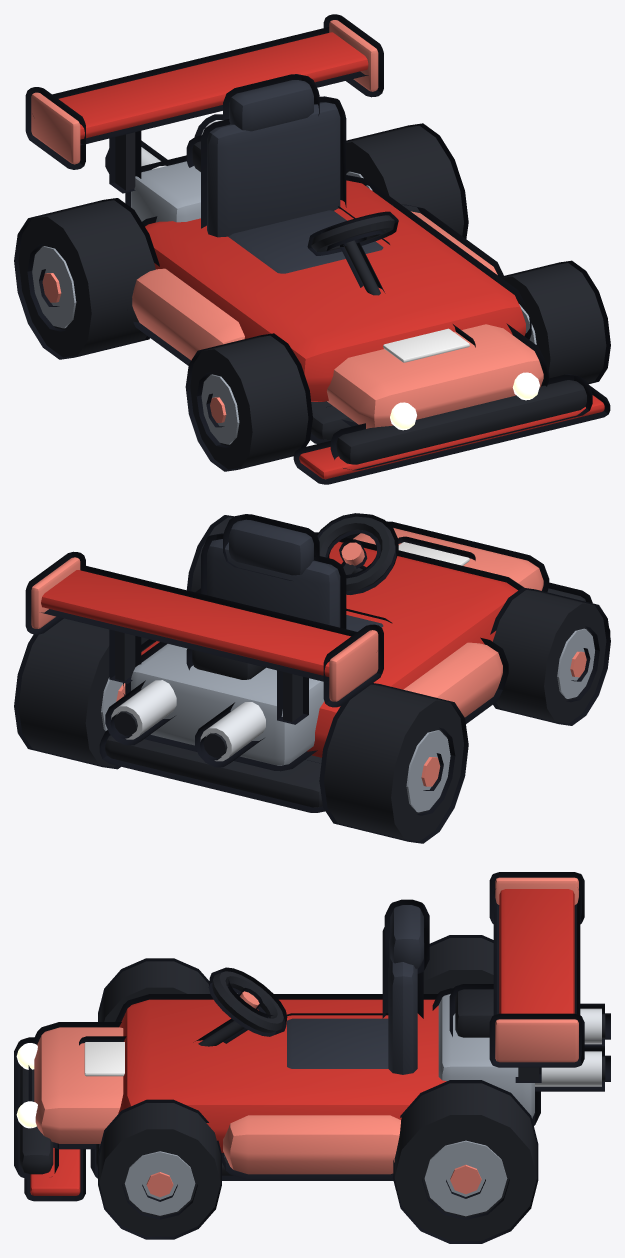
The model's file is kart.glb.
The picture shows the model from 3 angles, top to bottom: view 1: azimuth 30°, elevation 25°; view 2: azimuth 150°, elevation 25°; view 3: azimuth 270°, elevation 25°; orthographic projection. The views are drawn at different scales.
Parts seen in each view (by area): view 1: kart_body, wheel_rl, wheel_fl, wheel_fr, wheel_rr, steer; view 2: kart_body, wheel_rl, wheel_fl, wheel_rr, steer, wheel_fr; view 3: kart_body, wheel_rr, wheel_fr, steer, wheel_fl, wheel_rl.
Boxes of the visible parts, x1,y1,x2,y2 form: kart_body: (25, 14, 610, 484); wheel_rl: (14, 198, 159, 359); wheel_fl: (185, 333, 312, 471); wheel_fr: (494, 260, 610, 383); wheel_rr: (346, 123, 468, 238); steer: (307, 211, 398, 295); kart_body: (25, 514, 610, 812); wheel_rl: (319, 683, 468, 843); wheel_fl: (490, 587, 610, 725); wheel_rr: (14, 618, 156, 769); steer: (317, 513, 398, 594); wheel_fr: (186, 515, 233, 592); kart_body: (14, 872, 610, 1201); wheel_rr: (393, 1080, 538, 1243); wheel_fr: (98, 1099, 221, 1239); steer: (193, 967, 287, 1046); wheel_fl: (98, 958, 210, 1021); wheel_rl: (423, 935, 493, 993).
Size of the model in its own units: 2.07 by 1.27 by 2.85.
